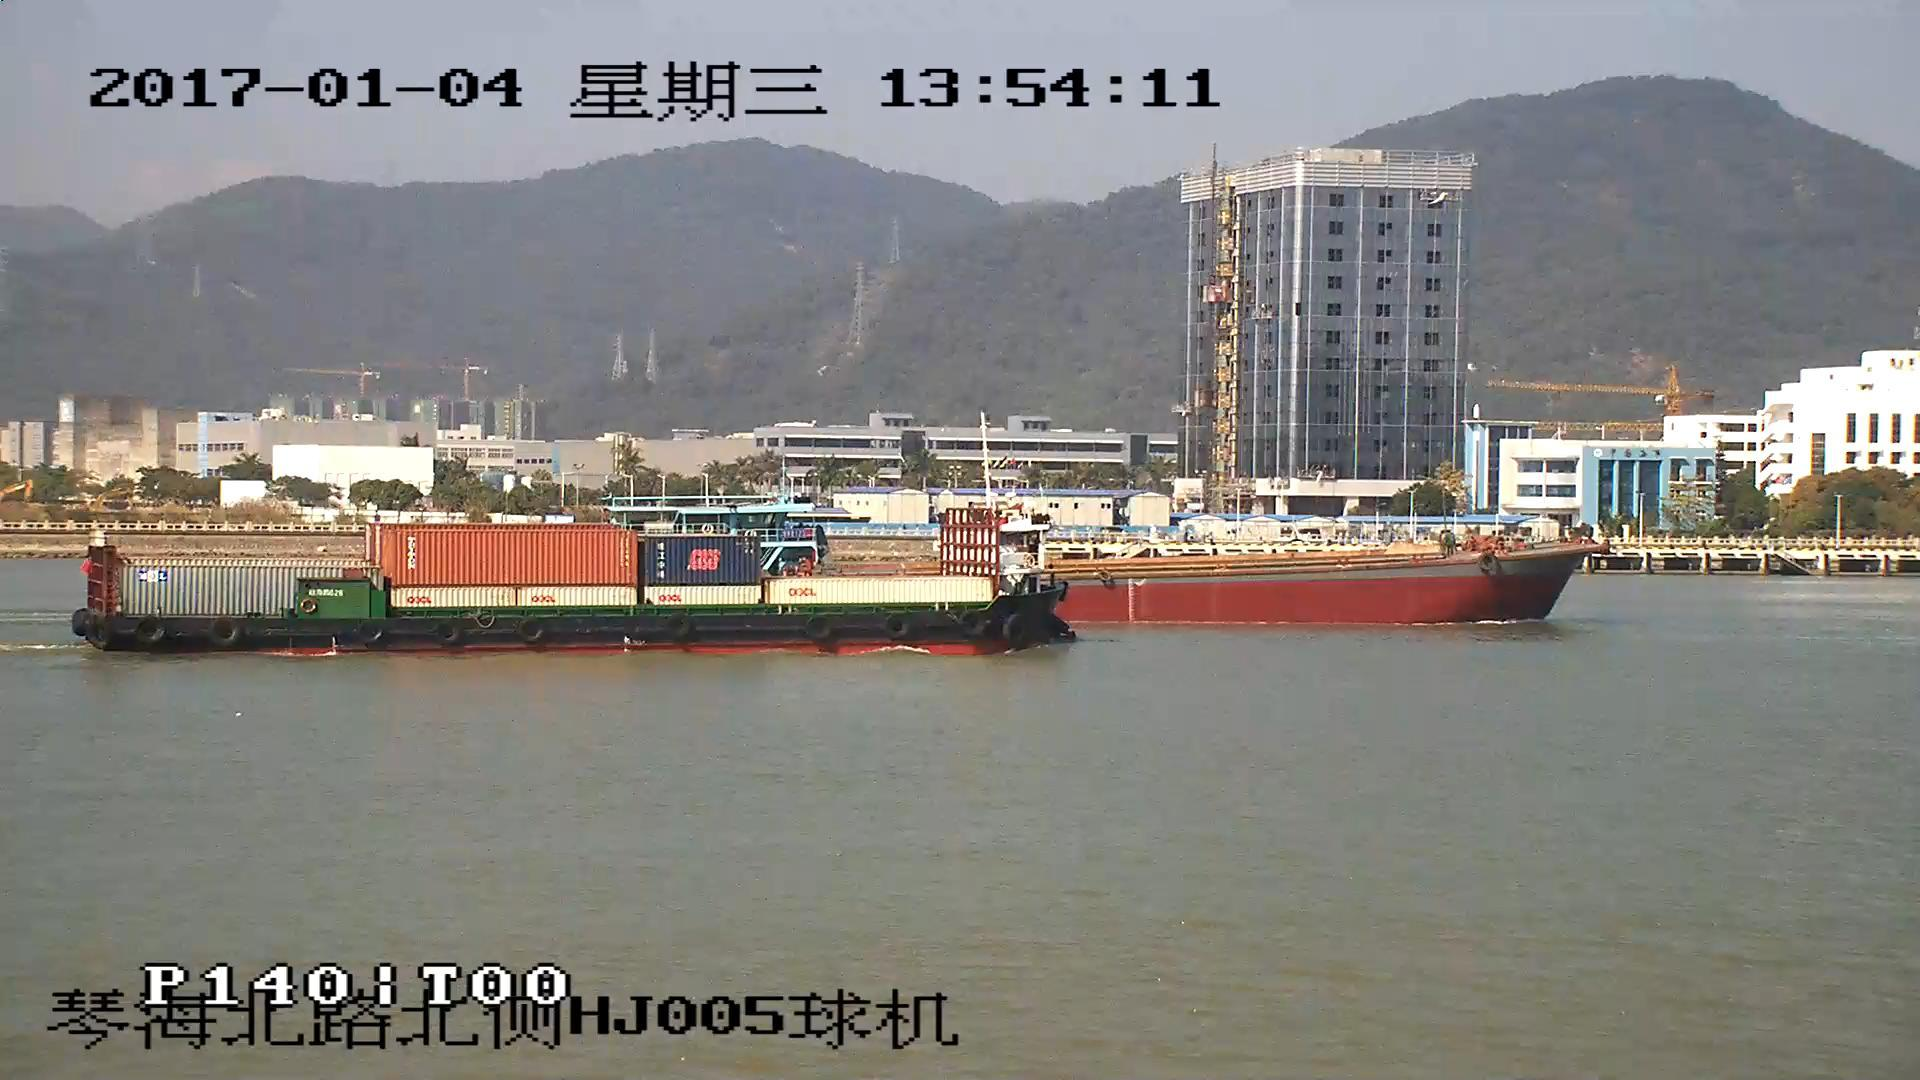Ship: (75, 506, 1076, 655), (1073, 541, 1601, 625)
